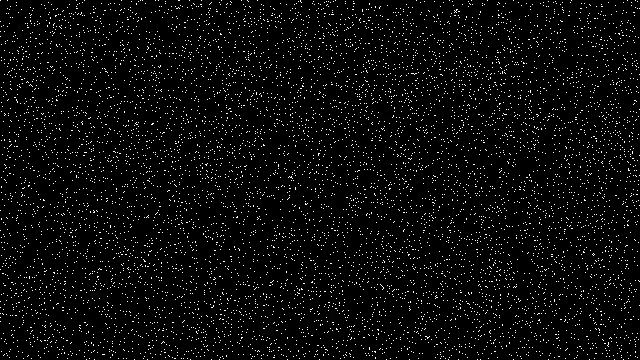pot: (455, 232, 619, 358), (0, 145, 114, 279), (96, 234, 177, 308), (388, 299, 460, 360), (367, 315, 418, 358), (171, 280, 219, 323), (344, 324, 383, 357)
